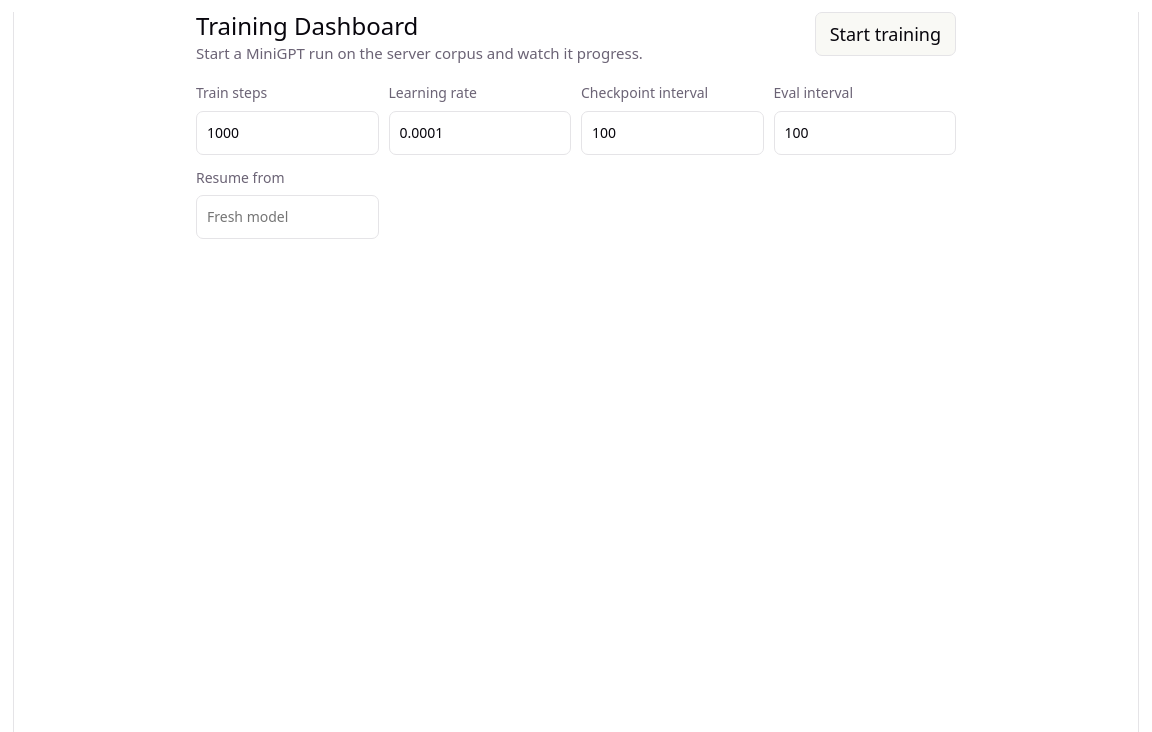
it: TrainingDashboard › posts the form, polls status, and stops polling once the run completes
Type "mini_gpt.step-5000" into the field labelled "Resume from" at [287, 217], box [196,195,378,239]
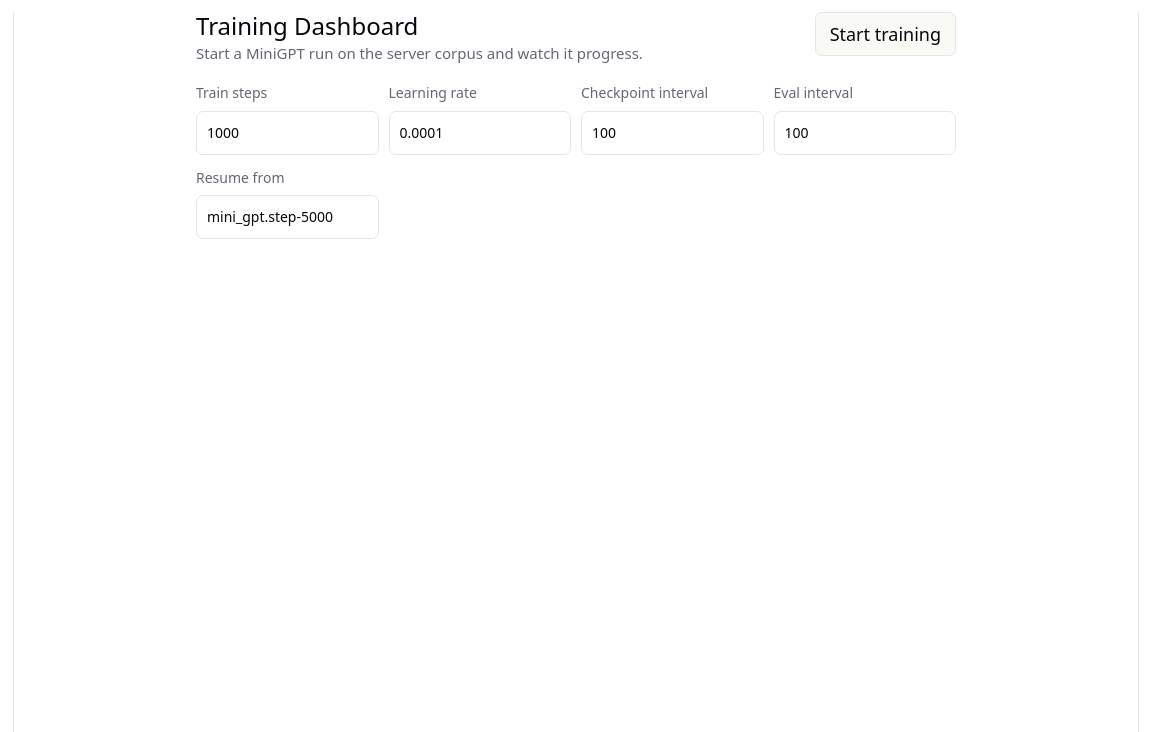
Replace the text in the number field labelled "Train steps" with "250" at [287, 133], box [196,110,378,155]
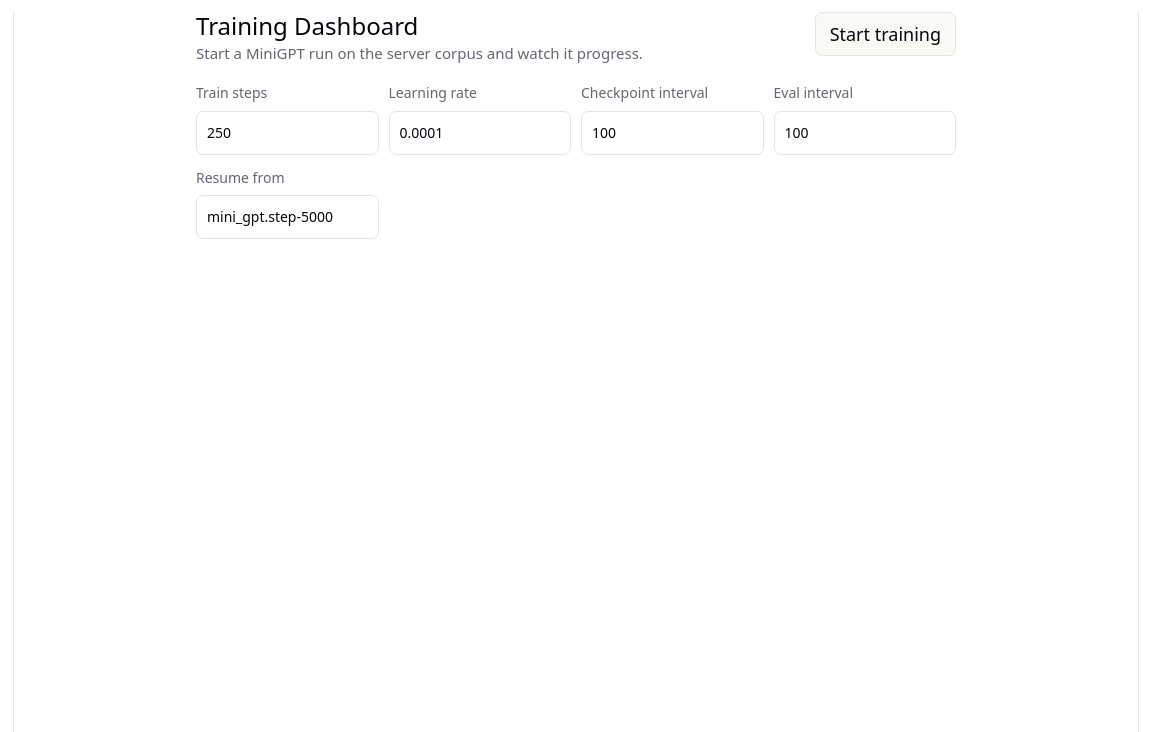
Click the button "Start training" at [885, 34], box [815,12,956,56]
Wait 7000 ms
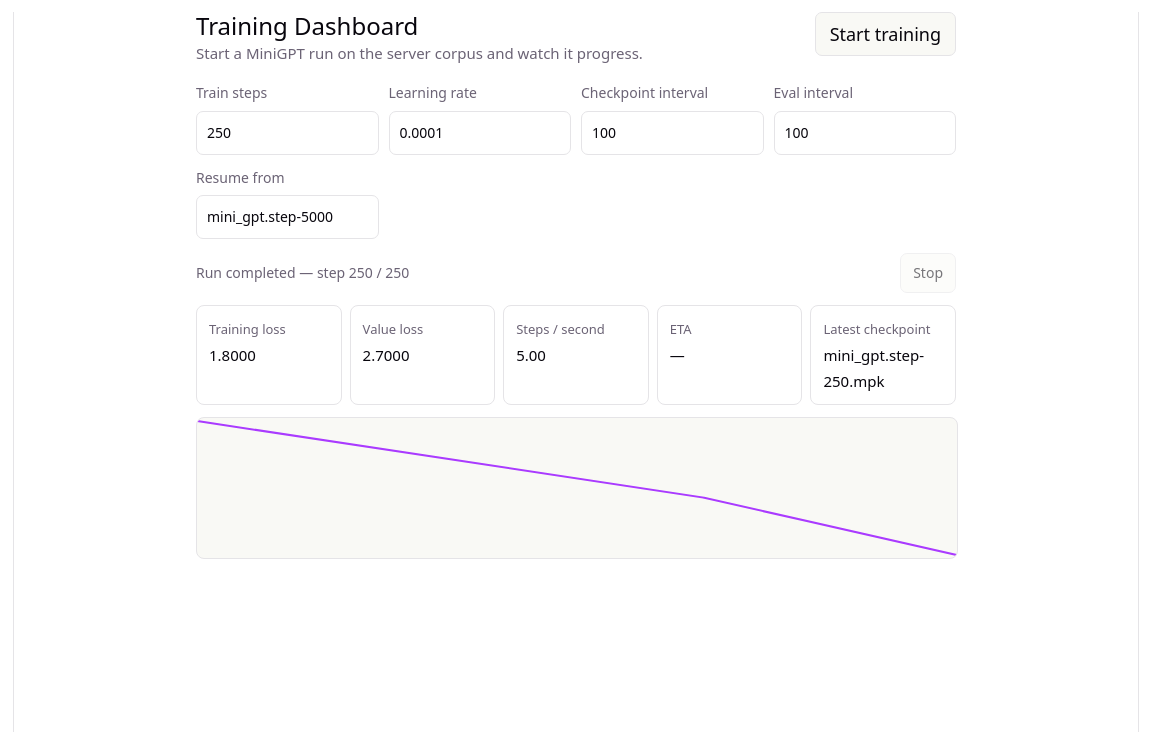
Now the text "2.5000" is shown, box [209,345,256,365]
Now the text "3m 0s" is shown, box [670,345,685,365]
Now the picture named "training loss curve over 2 samples" is shown, box [196,417,958,559]
